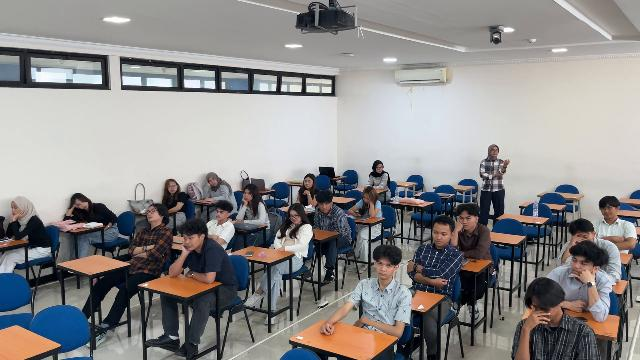bosan: (571, 256, 593, 277), (432, 225, 449, 246), (377, 260, 393, 280), (183, 234, 198, 250), (459, 213, 474, 229), (600, 205, 615, 218), (147, 207, 160, 221), (11, 201, 22, 216), (573, 234, 593, 242), (290, 210, 301, 224), (75, 198, 88, 209), (319, 201, 331, 212), (167, 180, 177, 193), (216, 208, 225, 220), (243, 189, 252, 201), (304, 178, 313, 188), (208, 178, 218, 186), (363, 194, 370, 204)
